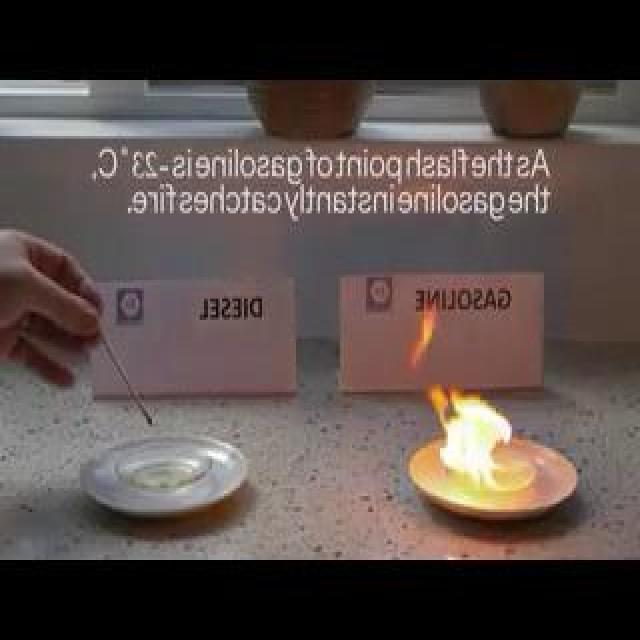Fire: (387, 329, 515, 487)
